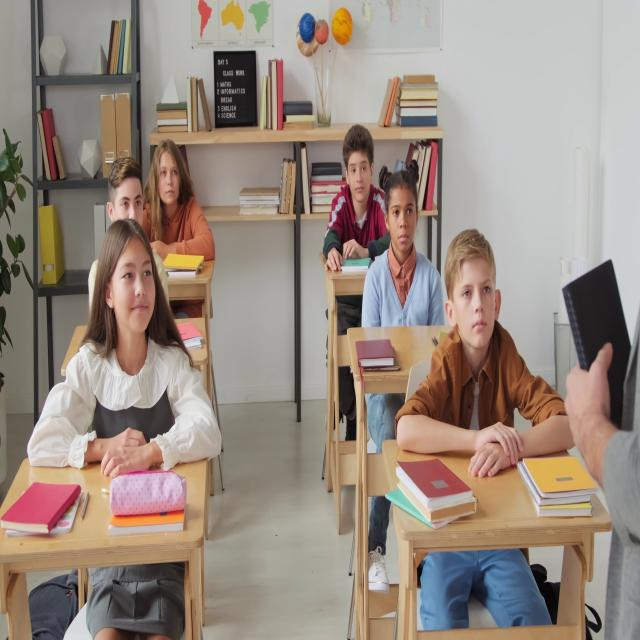listening: (396, 238, 573, 630), (26, 223, 225, 467), (360, 167, 442, 332), (144, 140, 217, 312), (89, 158, 168, 313), (325, 120, 383, 278), (107, 157, 145, 222)
